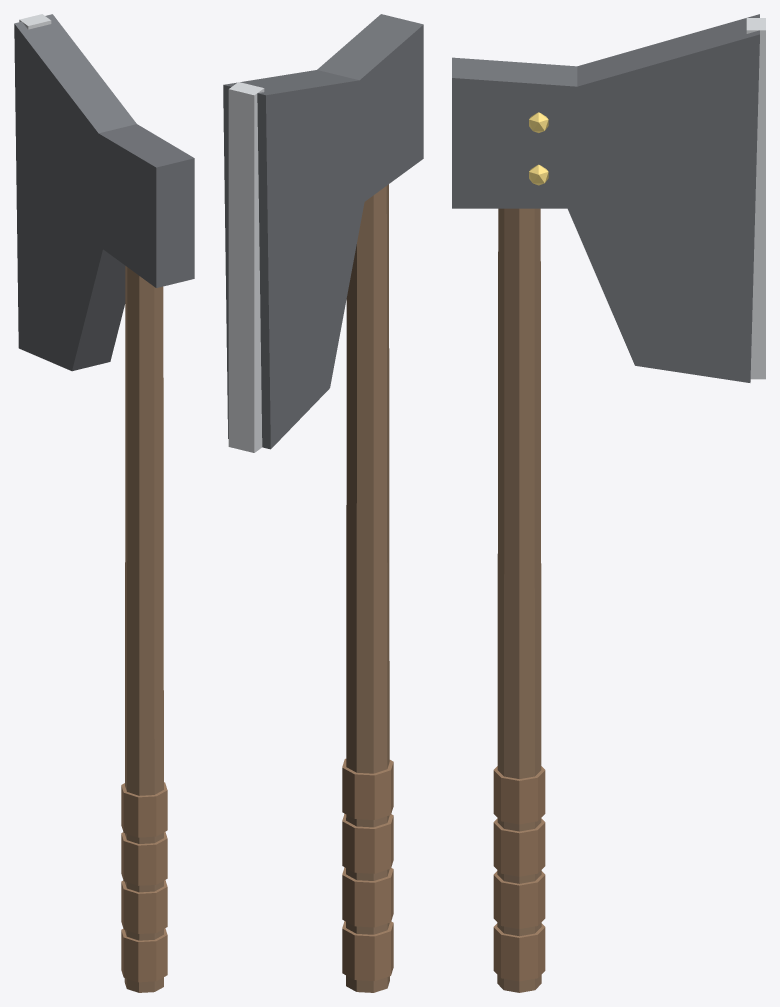
Rendered from Axe_3.fbx.
The picture shows the model from 3 angles, left to right: view 1: azimuth 30°, elevation 25°; view 2: azimuth 150°, elevation 25°; view 3: azimuth 270°, elevation 25°; orthographic projection. The views are drawn at different scales.
Visible parts, largest first — view 1: Axe_3_Mesh; view 2: Axe_3_Mesh; view 3: Axe_3_Mesh.
Part boxes in pixels (<box>): Axe_3_Mesh: <box>14,14,194,992</box>; Axe_3_Mesh: <box>223,14,423,992</box>; Axe_3_Mesh: <box>452,14,765,992</box>.
Bounding box in the file's own units: 0.0657 × 1.1 × 0.326.
